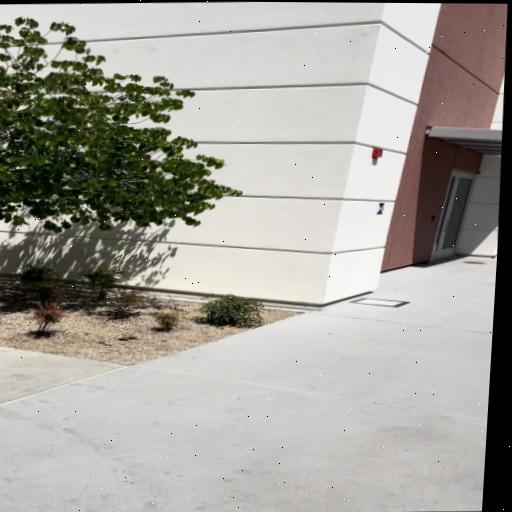target6: (375, 203, 385, 215)
